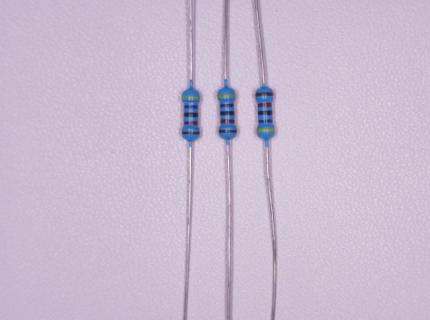Black band: (184, 112, 198, 117), (220, 111, 235, 115), (258, 111, 272, 115)
Brown band: (255, 92, 274, 96), (182, 131, 200, 135), (219, 129, 237, 133)
Red band: (258, 103, 272, 108), (184, 121, 198, 125), (220, 119, 234, 123)
Violet band: (184, 105, 198, 109), (259, 119, 272, 123), (220, 104, 234, 107)
Yellow band: (217, 94, 235, 98), (257, 128, 275, 132), (182, 96, 200, 99)
